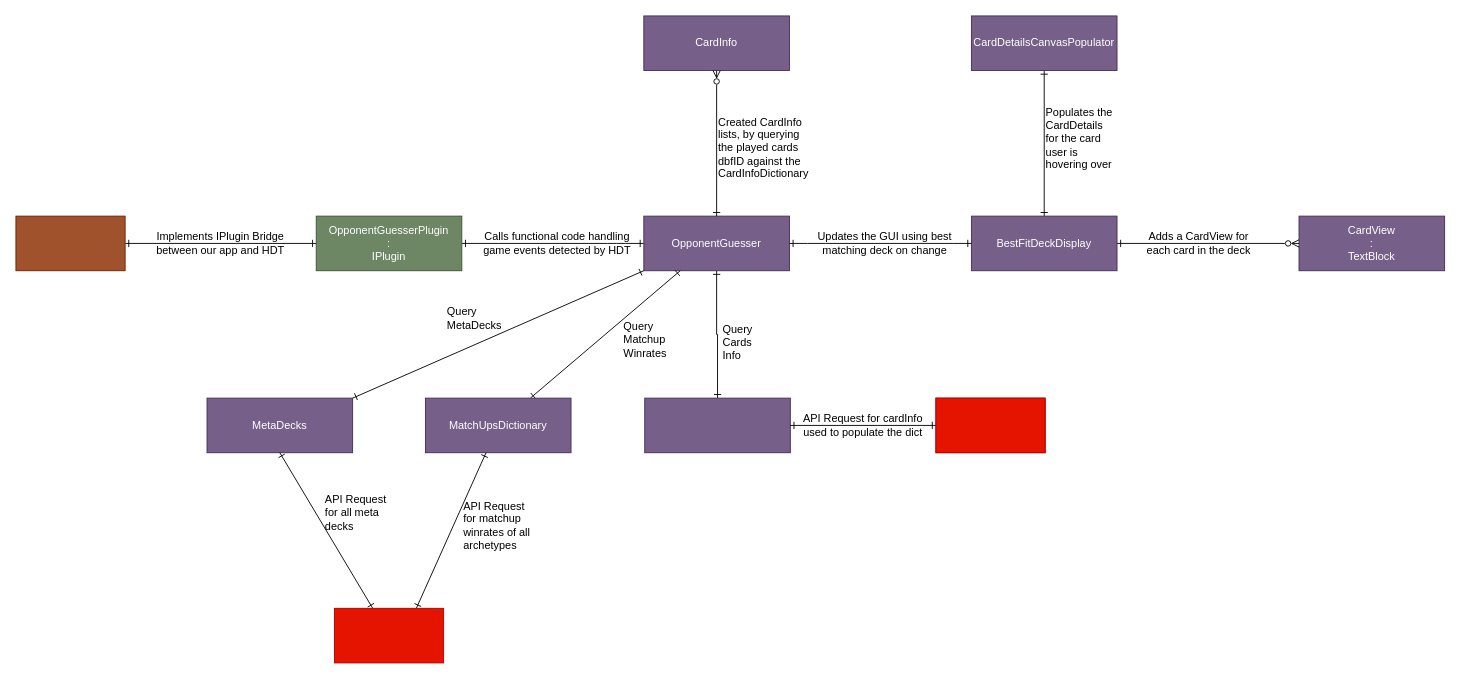
Some shapes in this 1461 by 679 pixel diagram are drawn without their labels. The shapes that lost their labels are listed below. From the top down, each one's centre as x and y in pixels, then its label:
point (70, 243): <<External APP>> Hearthstone DeckTracker
point (717, 425): CardInfoDictionary
point (990, 425): <<External API>> HearthstoneJson
point (389, 635): <<External API>> HSReplay
